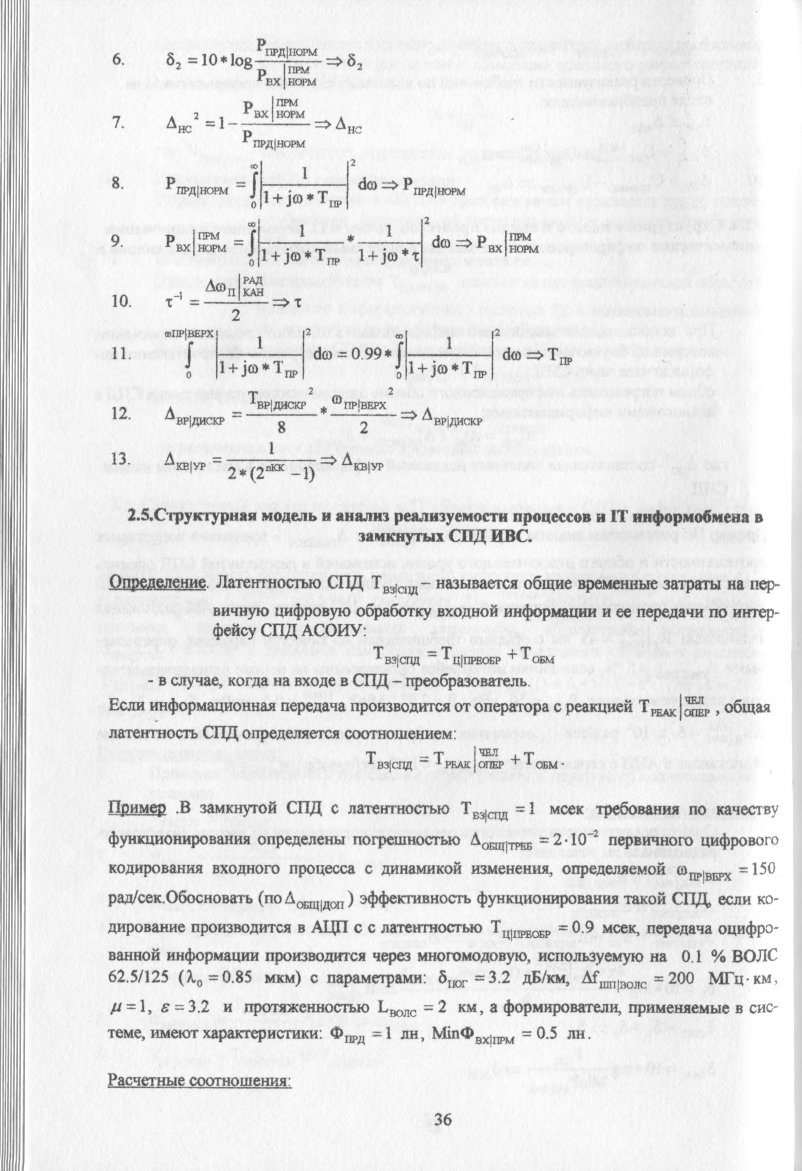P.вх.прм.норм: (159, 223, 229, 260), (239, 95, 311, 119), (252, 67, 316, 84)
P.прд.норм: (164, 173, 230, 198), (240, 128, 311, 149), (254, 36, 319, 56)
T.вз.спд: (370, 639, 426, 668), (364, 744, 414, 772)
T.вр.дискр: (245, 384, 307, 411)
T.обм: (518, 636, 562, 670), (523, 744, 559, 774)
T.пр: (272, 357, 298, 382), (460, 359, 488, 382), (314, 190, 339, 213), (315, 246, 339, 268)
T.реак.чел.опер: (433, 741, 507, 774)
T.ц.преобр: (442, 639, 505, 670)
n.КК: (264, 462, 285, 471)
Δ.вр.дискр: (163, 401, 224, 426)
Δ.кв.ур: (163, 444, 208, 473)
Δ.нс: (162, 110, 195, 136)
Δω.п.р.кан: (198, 275, 270, 296)
δ.2: (161, 47, 182, 74)
τ: (162, 289, 177, 313), (411, 246, 419, 264)
ω.пр.верх: (329, 388, 389, 411), (159, 326, 215, 339)
